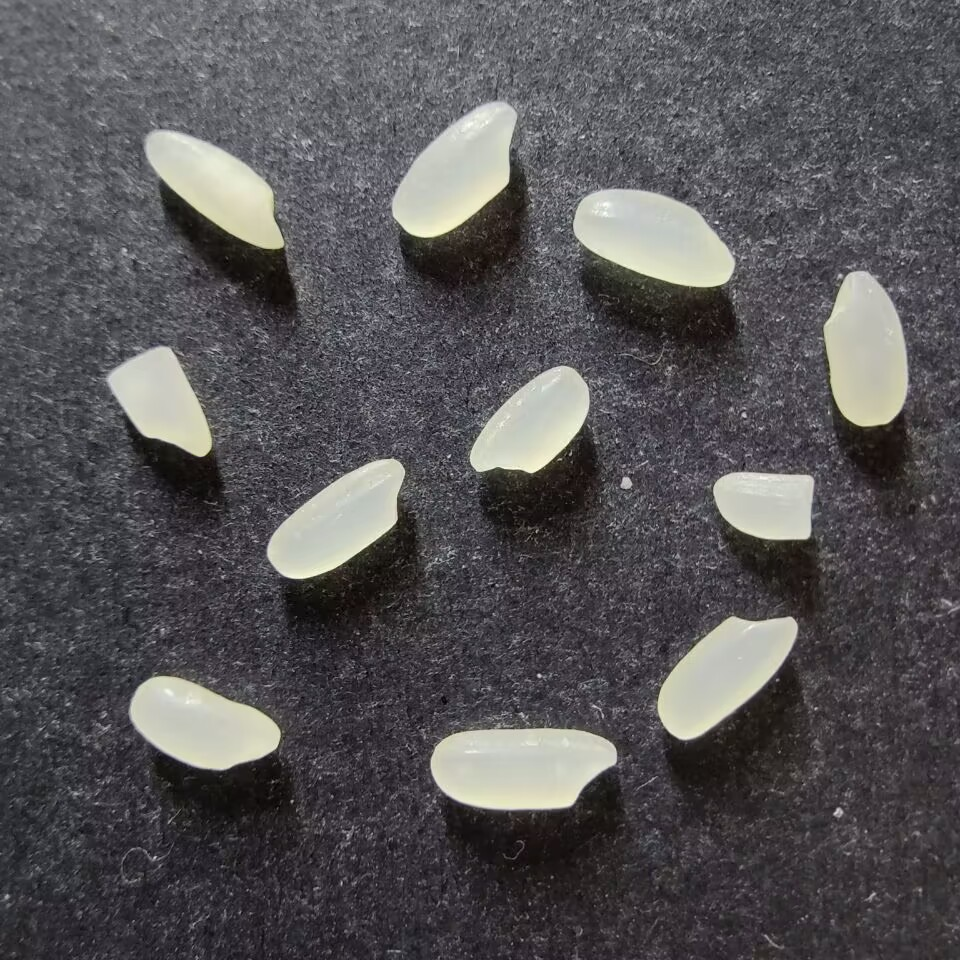broken: (106, 345, 213, 458), (712, 471, 814, 541)
rice: (655, 615, 798, 741), (390, 100, 517, 238), (143, 129, 285, 250), (266, 458, 405, 580), (572, 188, 734, 288), (430, 727, 617, 811), (129, 675, 281, 771), (822, 270, 908, 427), (468, 365, 590, 474)
